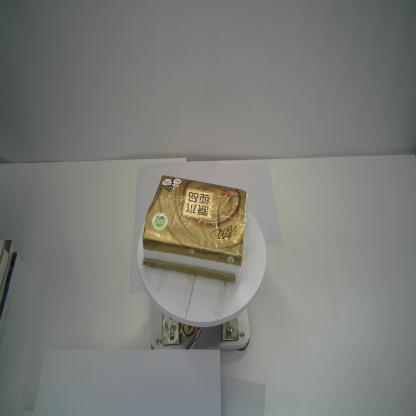Tissue: (141, 174, 249, 284)
